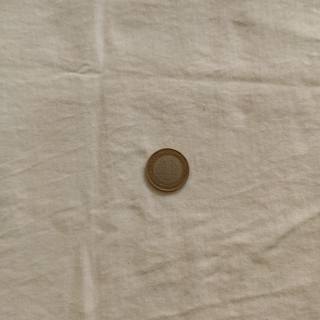1TL: (143, 146, 190, 193)
